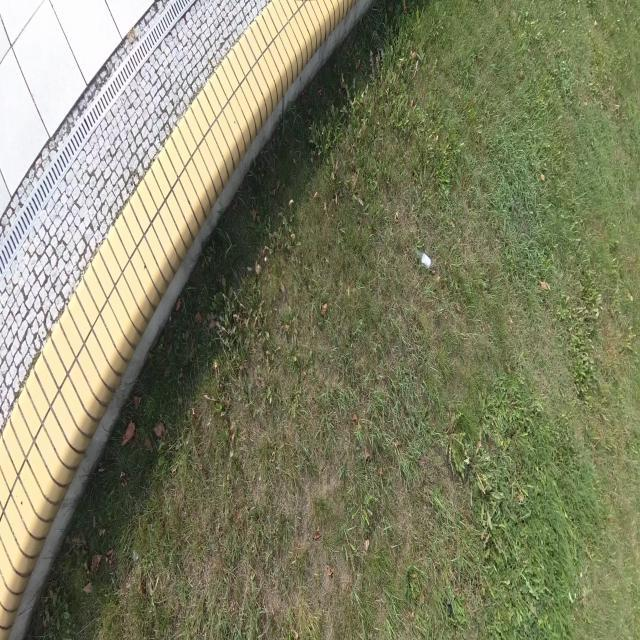rubbish: (414, 244, 433, 270)
